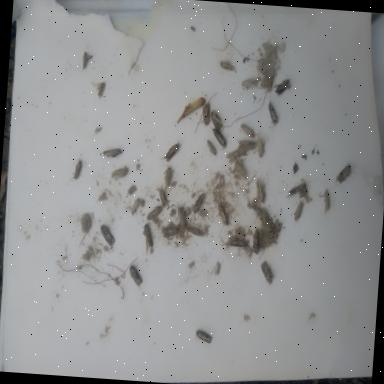pbw: (160, 140, 182, 163), (184, 95, 206, 118), (192, 186, 210, 214), (266, 96, 281, 128), (140, 221, 154, 255), (208, 126, 228, 149), (97, 222, 116, 246), (234, 138, 256, 158), (286, 181, 310, 199), (238, 122, 262, 140), (127, 264, 144, 289), (174, 200, 188, 228), (259, 260, 275, 284), (256, 230, 268, 260), (274, 76, 292, 96), (208, 109, 225, 130), (336, 162, 352, 184), (162, 164, 174, 192), (70, 156, 84, 180), (216, 202, 230, 225), (101, 146, 123, 160), (194, 328, 213, 344), (201, 100, 212, 127), (252, 226, 262, 255), (271, 217, 283, 241), (146, 204, 162, 222), (205, 138, 218, 160), (255, 178, 266, 204), (159, 225, 180, 238), (254, 206, 268, 224), (158, 187, 170, 208), (110, 165, 128, 179), (234, 160, 247, 179), (293, 200, 304, 222), (322, 187, 332, 211), (228, 236, 248, 248), (185, 224, 204, 236), (218, 59, 236, 71), (240, 76, 258, 88), (256, 135, 265, 158), (96, 80, 106, 100), (130, 196, 141, 214), (82, 50, 88, 70)
